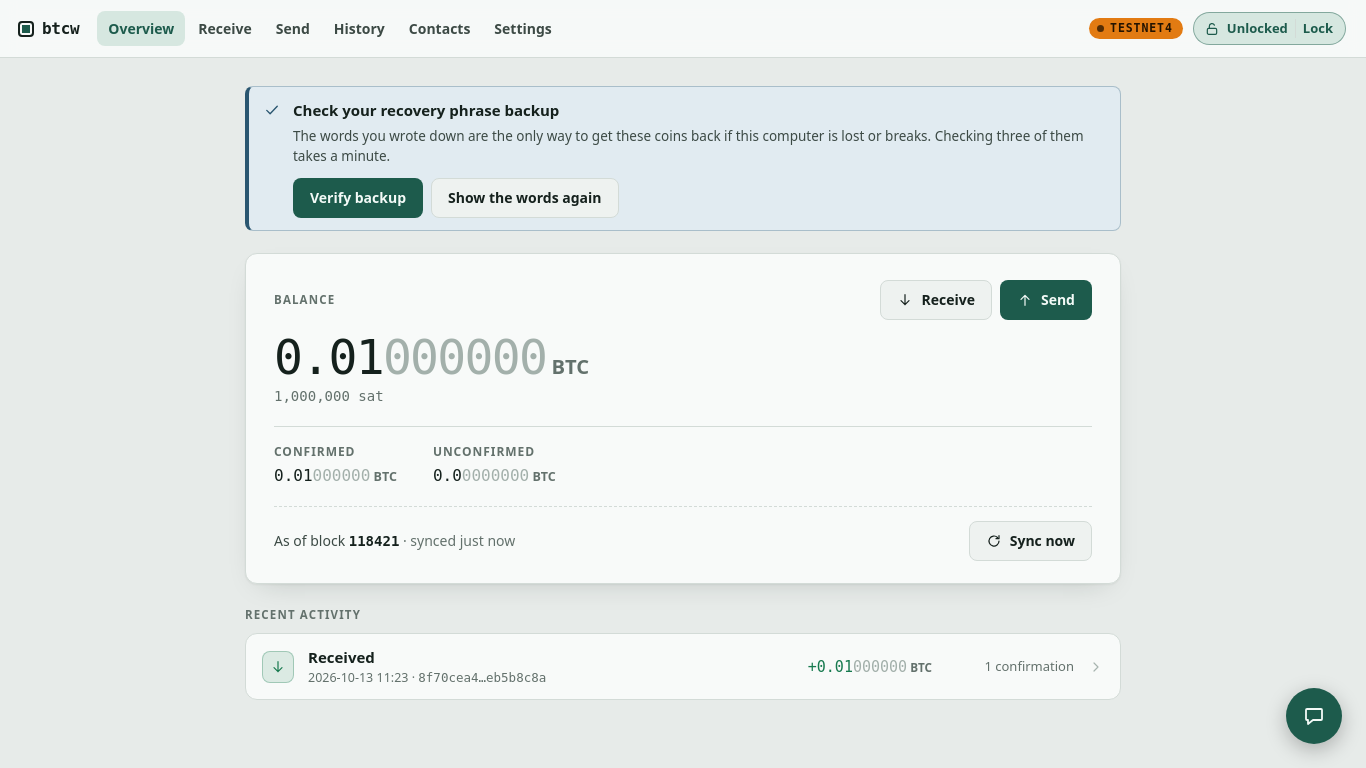
it: assistant screen › answers questions and shows which tools it used
The image size is (1366, 768).
Check: the heading "Balance" is shown, box [274,291,335,309]
Check: the text "As of block 118421 · synced just now" is shown, box [274,530,515,552]
Click the button named "Open assistant" at (1314, 716), box [1286,688,1342,744]
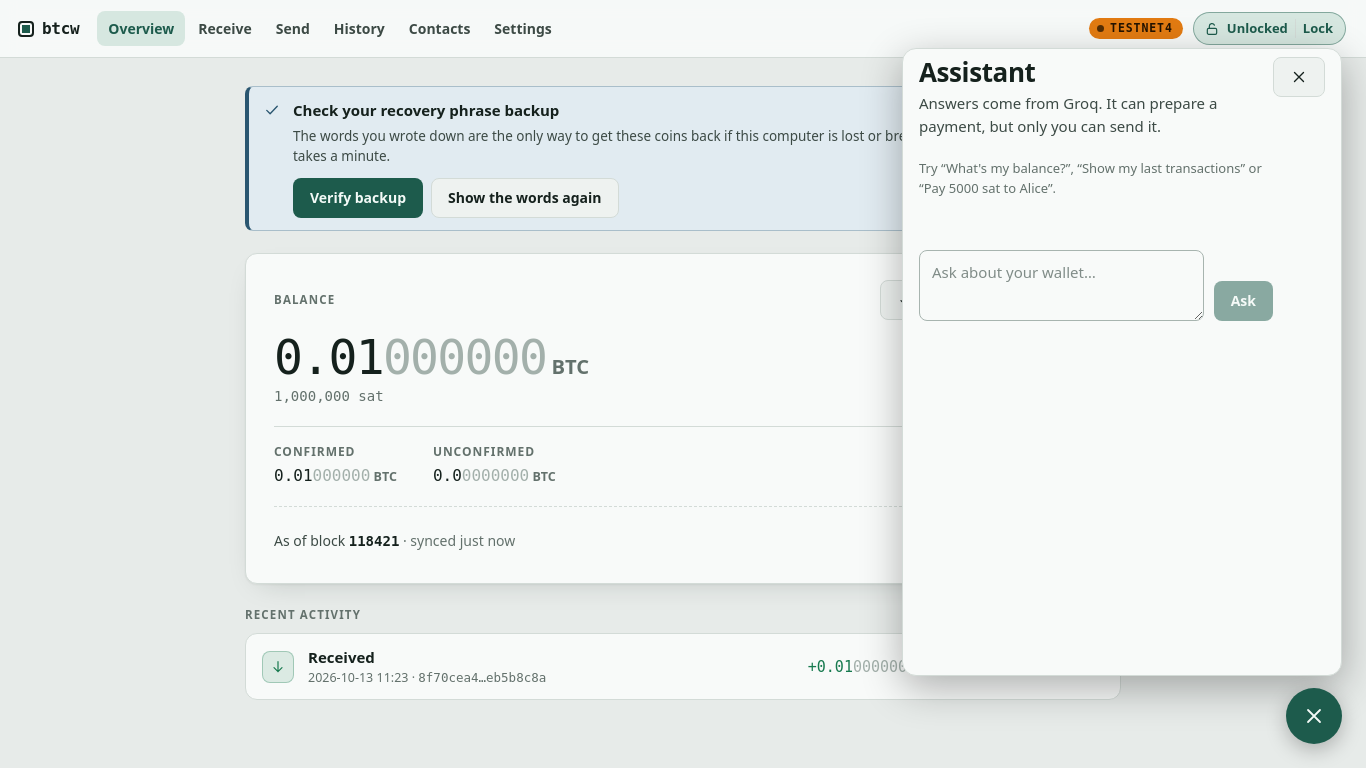
Check: the heading "Assistant" is shown, box [919,54,1036,90]
Type "What's my balance?" into the text box named "Message" at (1061, 286), box [919,250,1204,321]
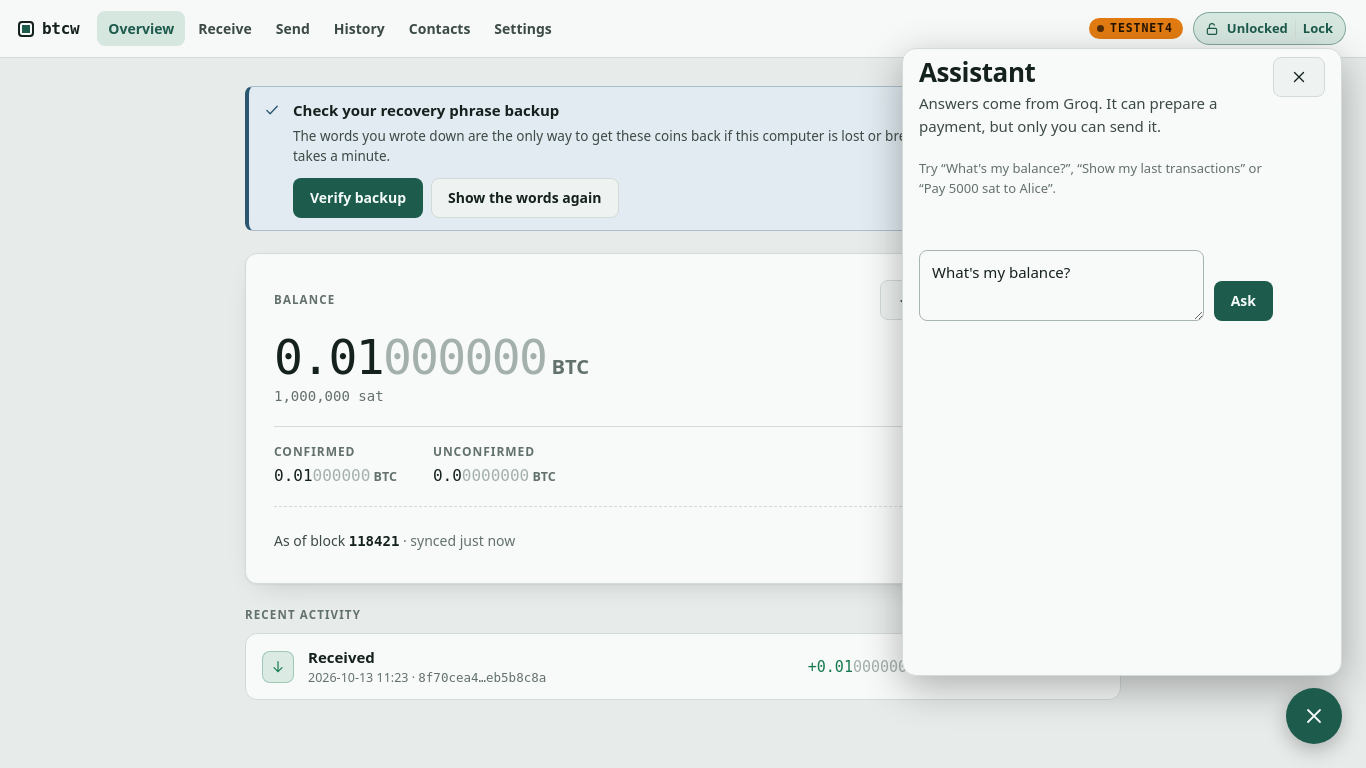
Click the button "Ask" at (1243, 301), box [1214,281,1273,321]
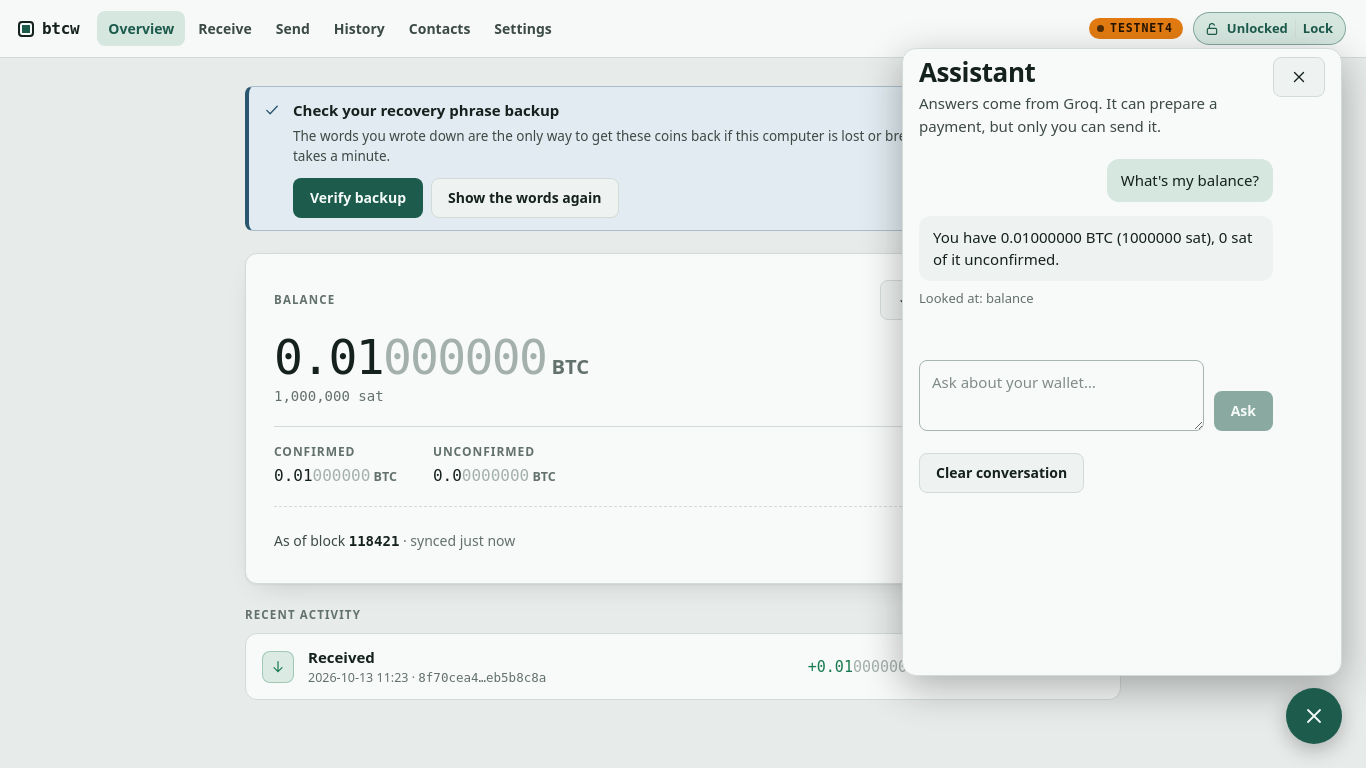
Check: the text "What's my balance?" is shown, box [1107,159,1273,202]
Check: the text "You have 0.01000000 BTC" is shown, box [933,227,1256,269]
Check: the text "Looked at: balance" is shown, box [919,289,1034,307]
